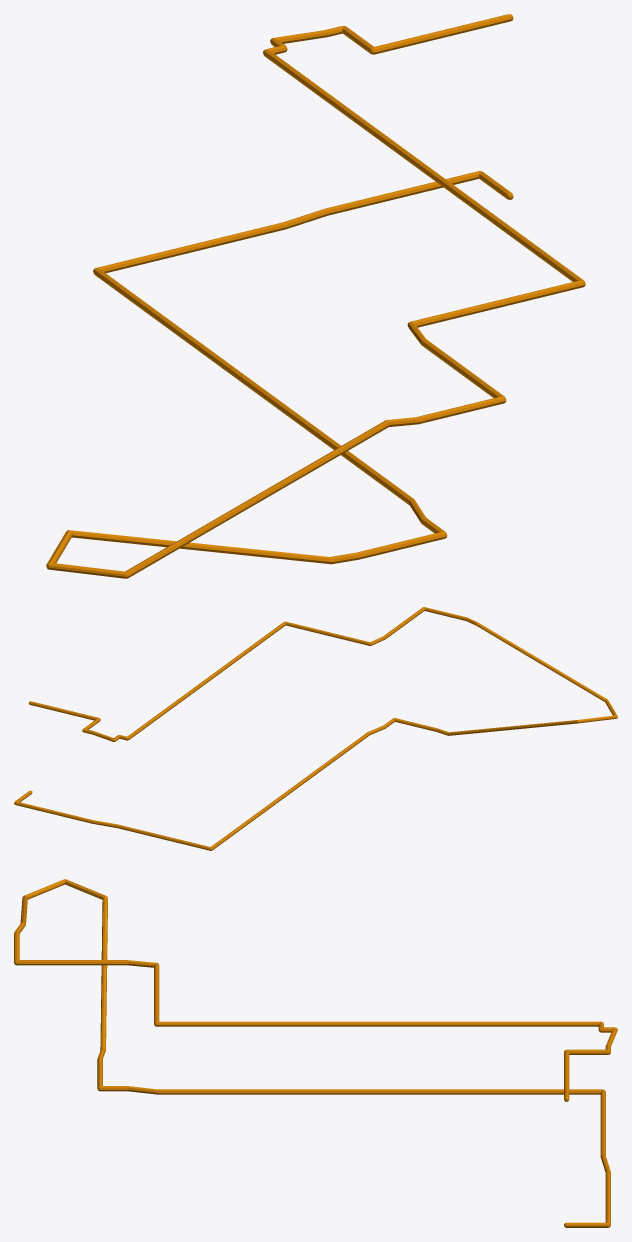
The picture shows the model from 3 angles, top to bottom: view 1: azimuth 30°, elevation 25°; view 2: azimuth 150°, elevation 25°; view 3: azimuth 270°, elevation 25°; orthographic projection. The views are drawn at different scales.
Size of the model in its own units: 2409 by 520 by 2174.
